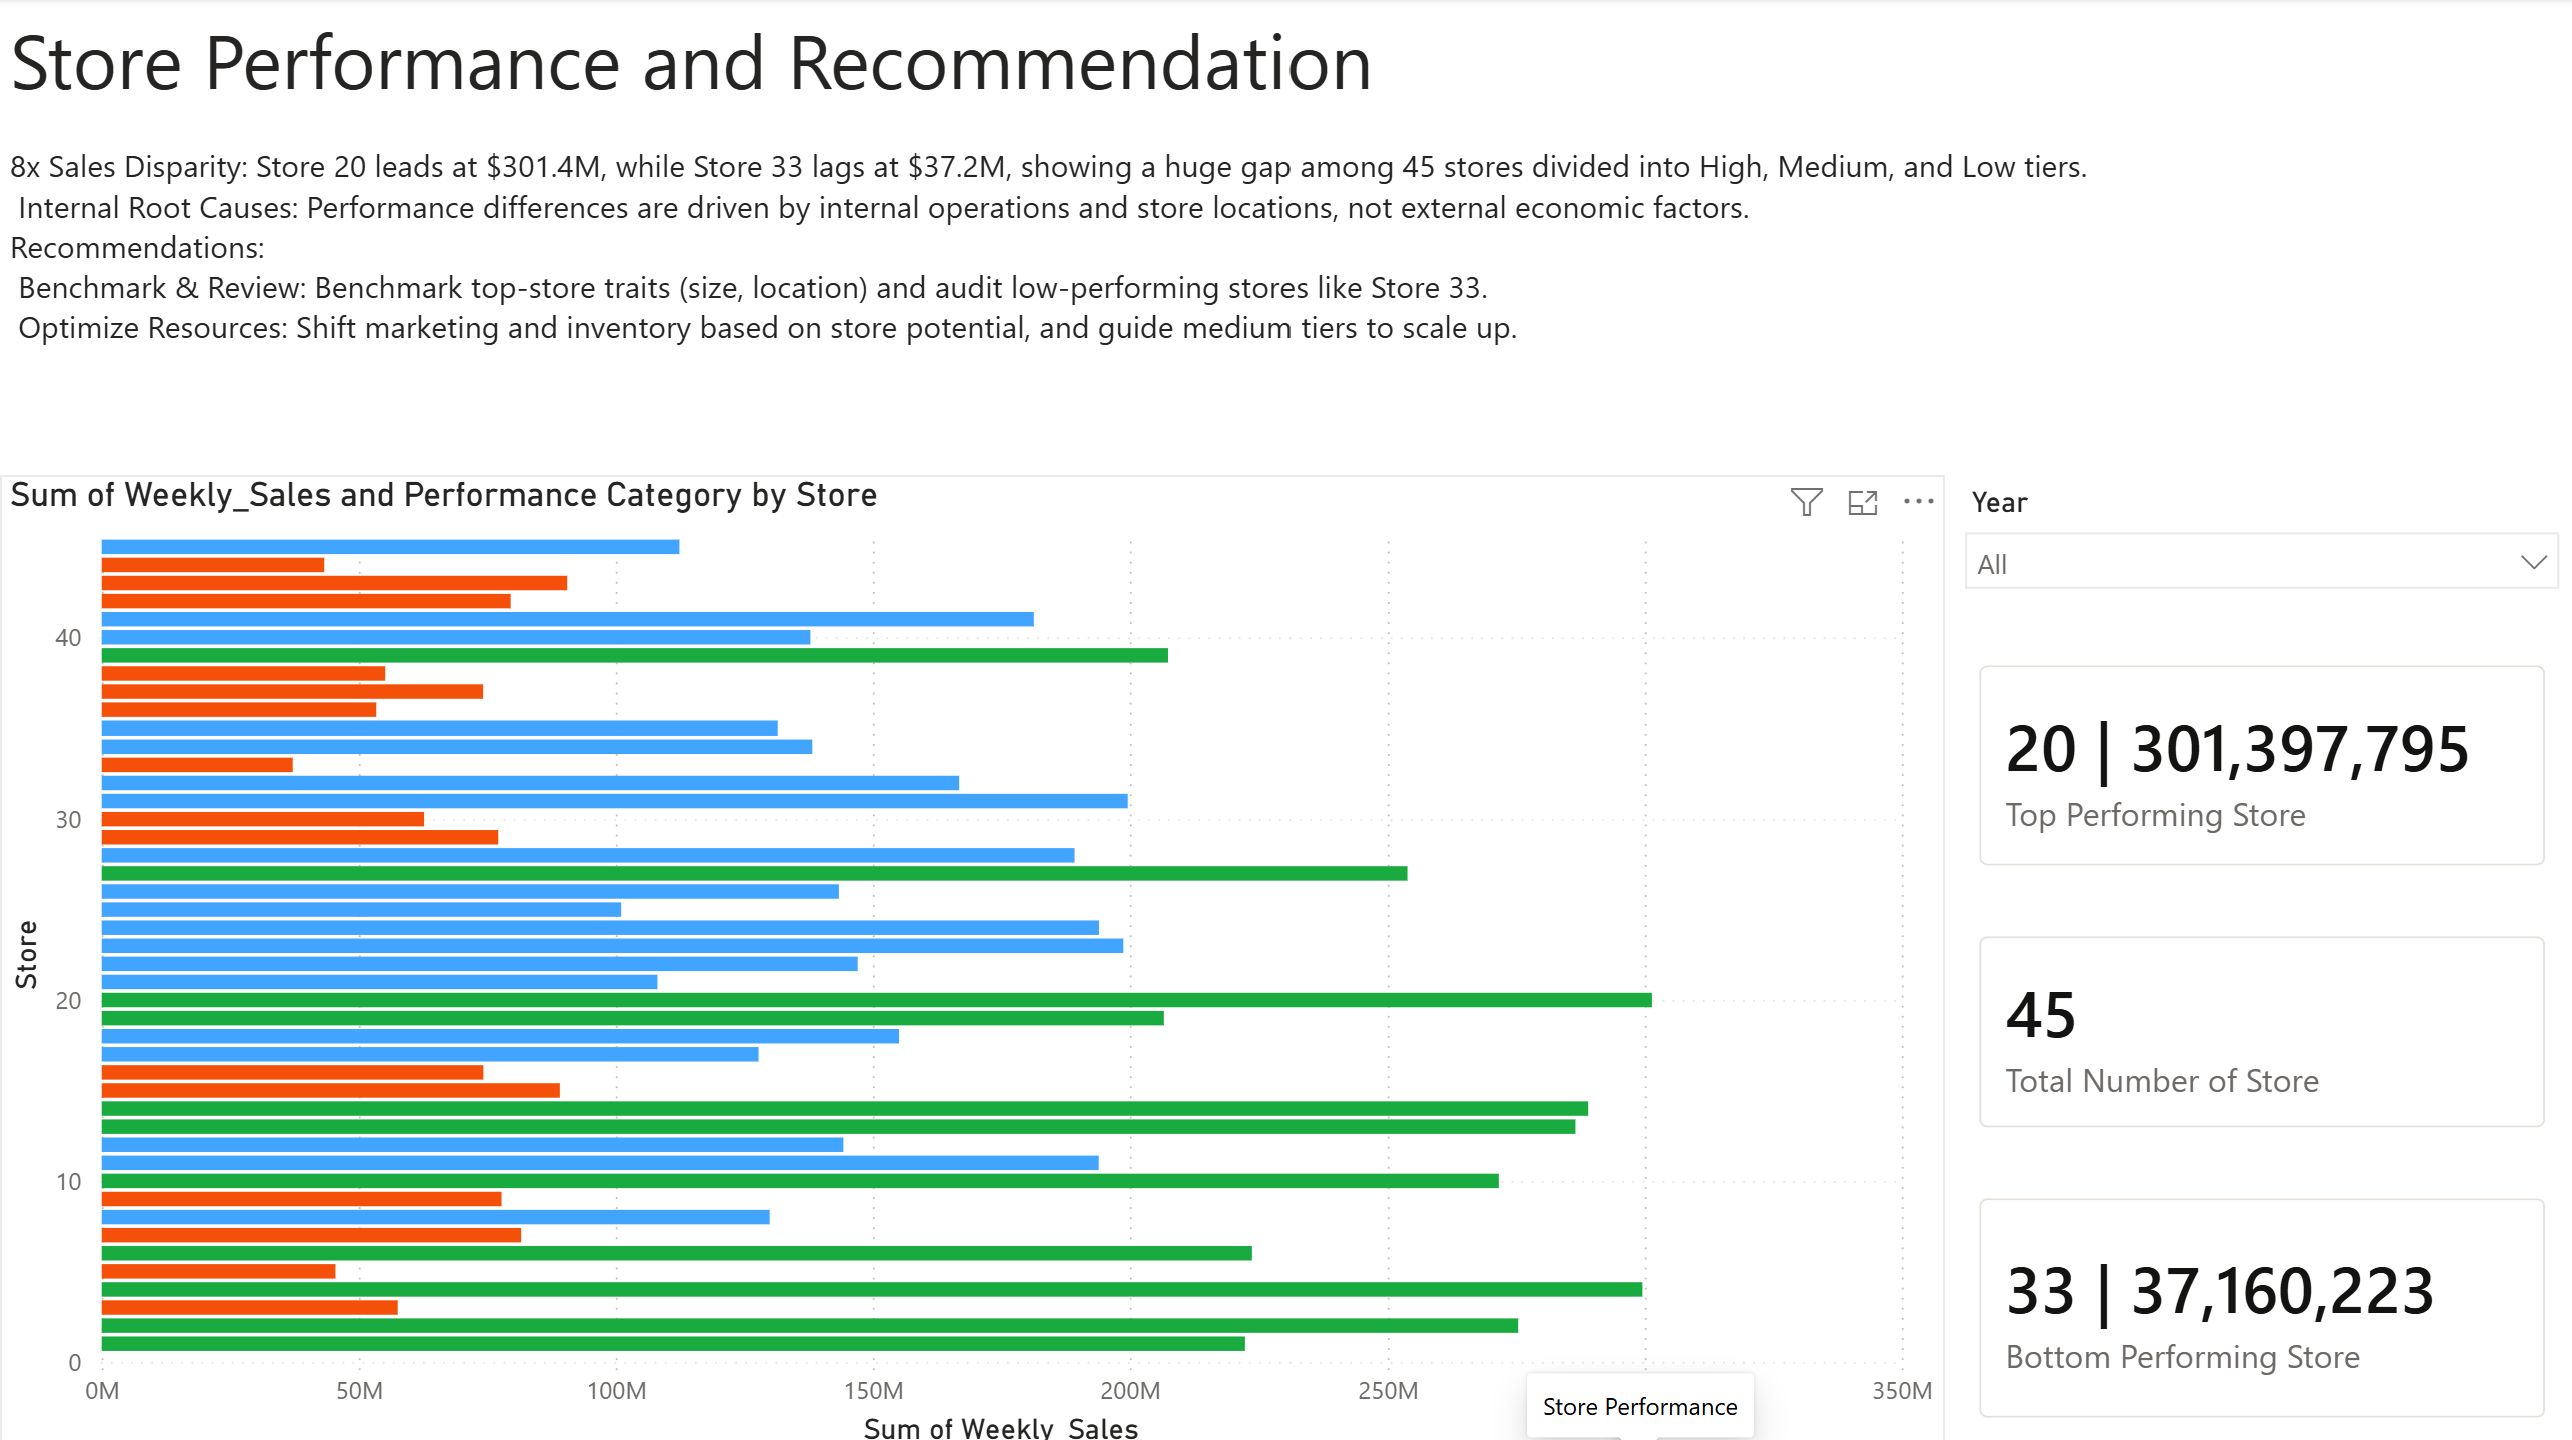

What the dashboard file says about the page in this screenshot:
{"tool":"powerbi","page":{"name":"Store Performance","canvas":[1280,720],"ordinal":4},"visuals":[{"type":"cardVisual","fields":{"Data":["Measure-.Total Number of Store"]},"box":[964.8,448.7,315.2,129.9],"z":0},{"type":"cardVisual","fields":{"Data":["Measure-.Top Performing Store"]},"box":[964.8,315.2,315.2,133.5],"z":1000},{"type":"textbox","box":[0,0,698.6,68.6],"z":2000},{"type":"cardVisual","fields":{"Data":["Measure-.Bottom Performing Store"]},"box":[964.8,578.6,315.2,143.2],"z":3000},{"type":"clusteredBarChart","fields":{"Category":["Dim-Store.Store"],"Y":["Sum(Fact-Sales.Weekly_Sales)"]},"box":[0,237,964.8,486],"z":4000},{"type":"slicer","fields":{"Values":["Dim-Date.Year"]},"box":[964.8,237,315.2,78.2],"z":5000},{"type":"textbox","box":[0,68.6,1280,137.1],"z":6000}]}

Visuals, with their boxes in screenshot pixels (x1, y1, x2, y2), scaled from the page's 1280x720 canvas onto the 2572x1440 screenshot:
cardVisual - Measure-.Total Number of Store: (1939, 897, 2571, 1157)
cardVisual - Measure-.Top Performing Store: (1939, 630, 2571, 897)
textbox: (0, 0, 1404, 137)
cardVisual - Measure-.Bottom Performing Store: (1939, 1157, 2571, 1439)
clusteredBarChart - Dim-Store.Store x Sum(Fact-Sales.Weekly_Sales): (0, 474, 1939, 1439)
slicer - Dim-Date.Year: (1939, 474, 2571, 630)
textbox: (0, 137, 2571, 411)
